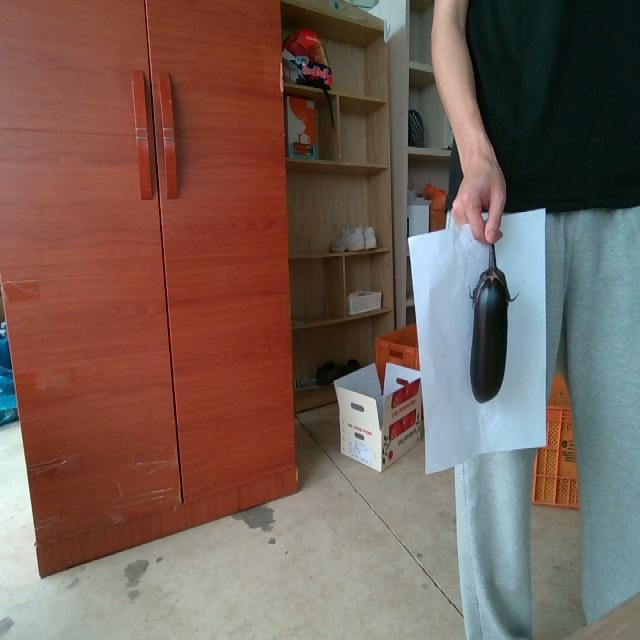Egg plant: (470, 244, 515, 401)
